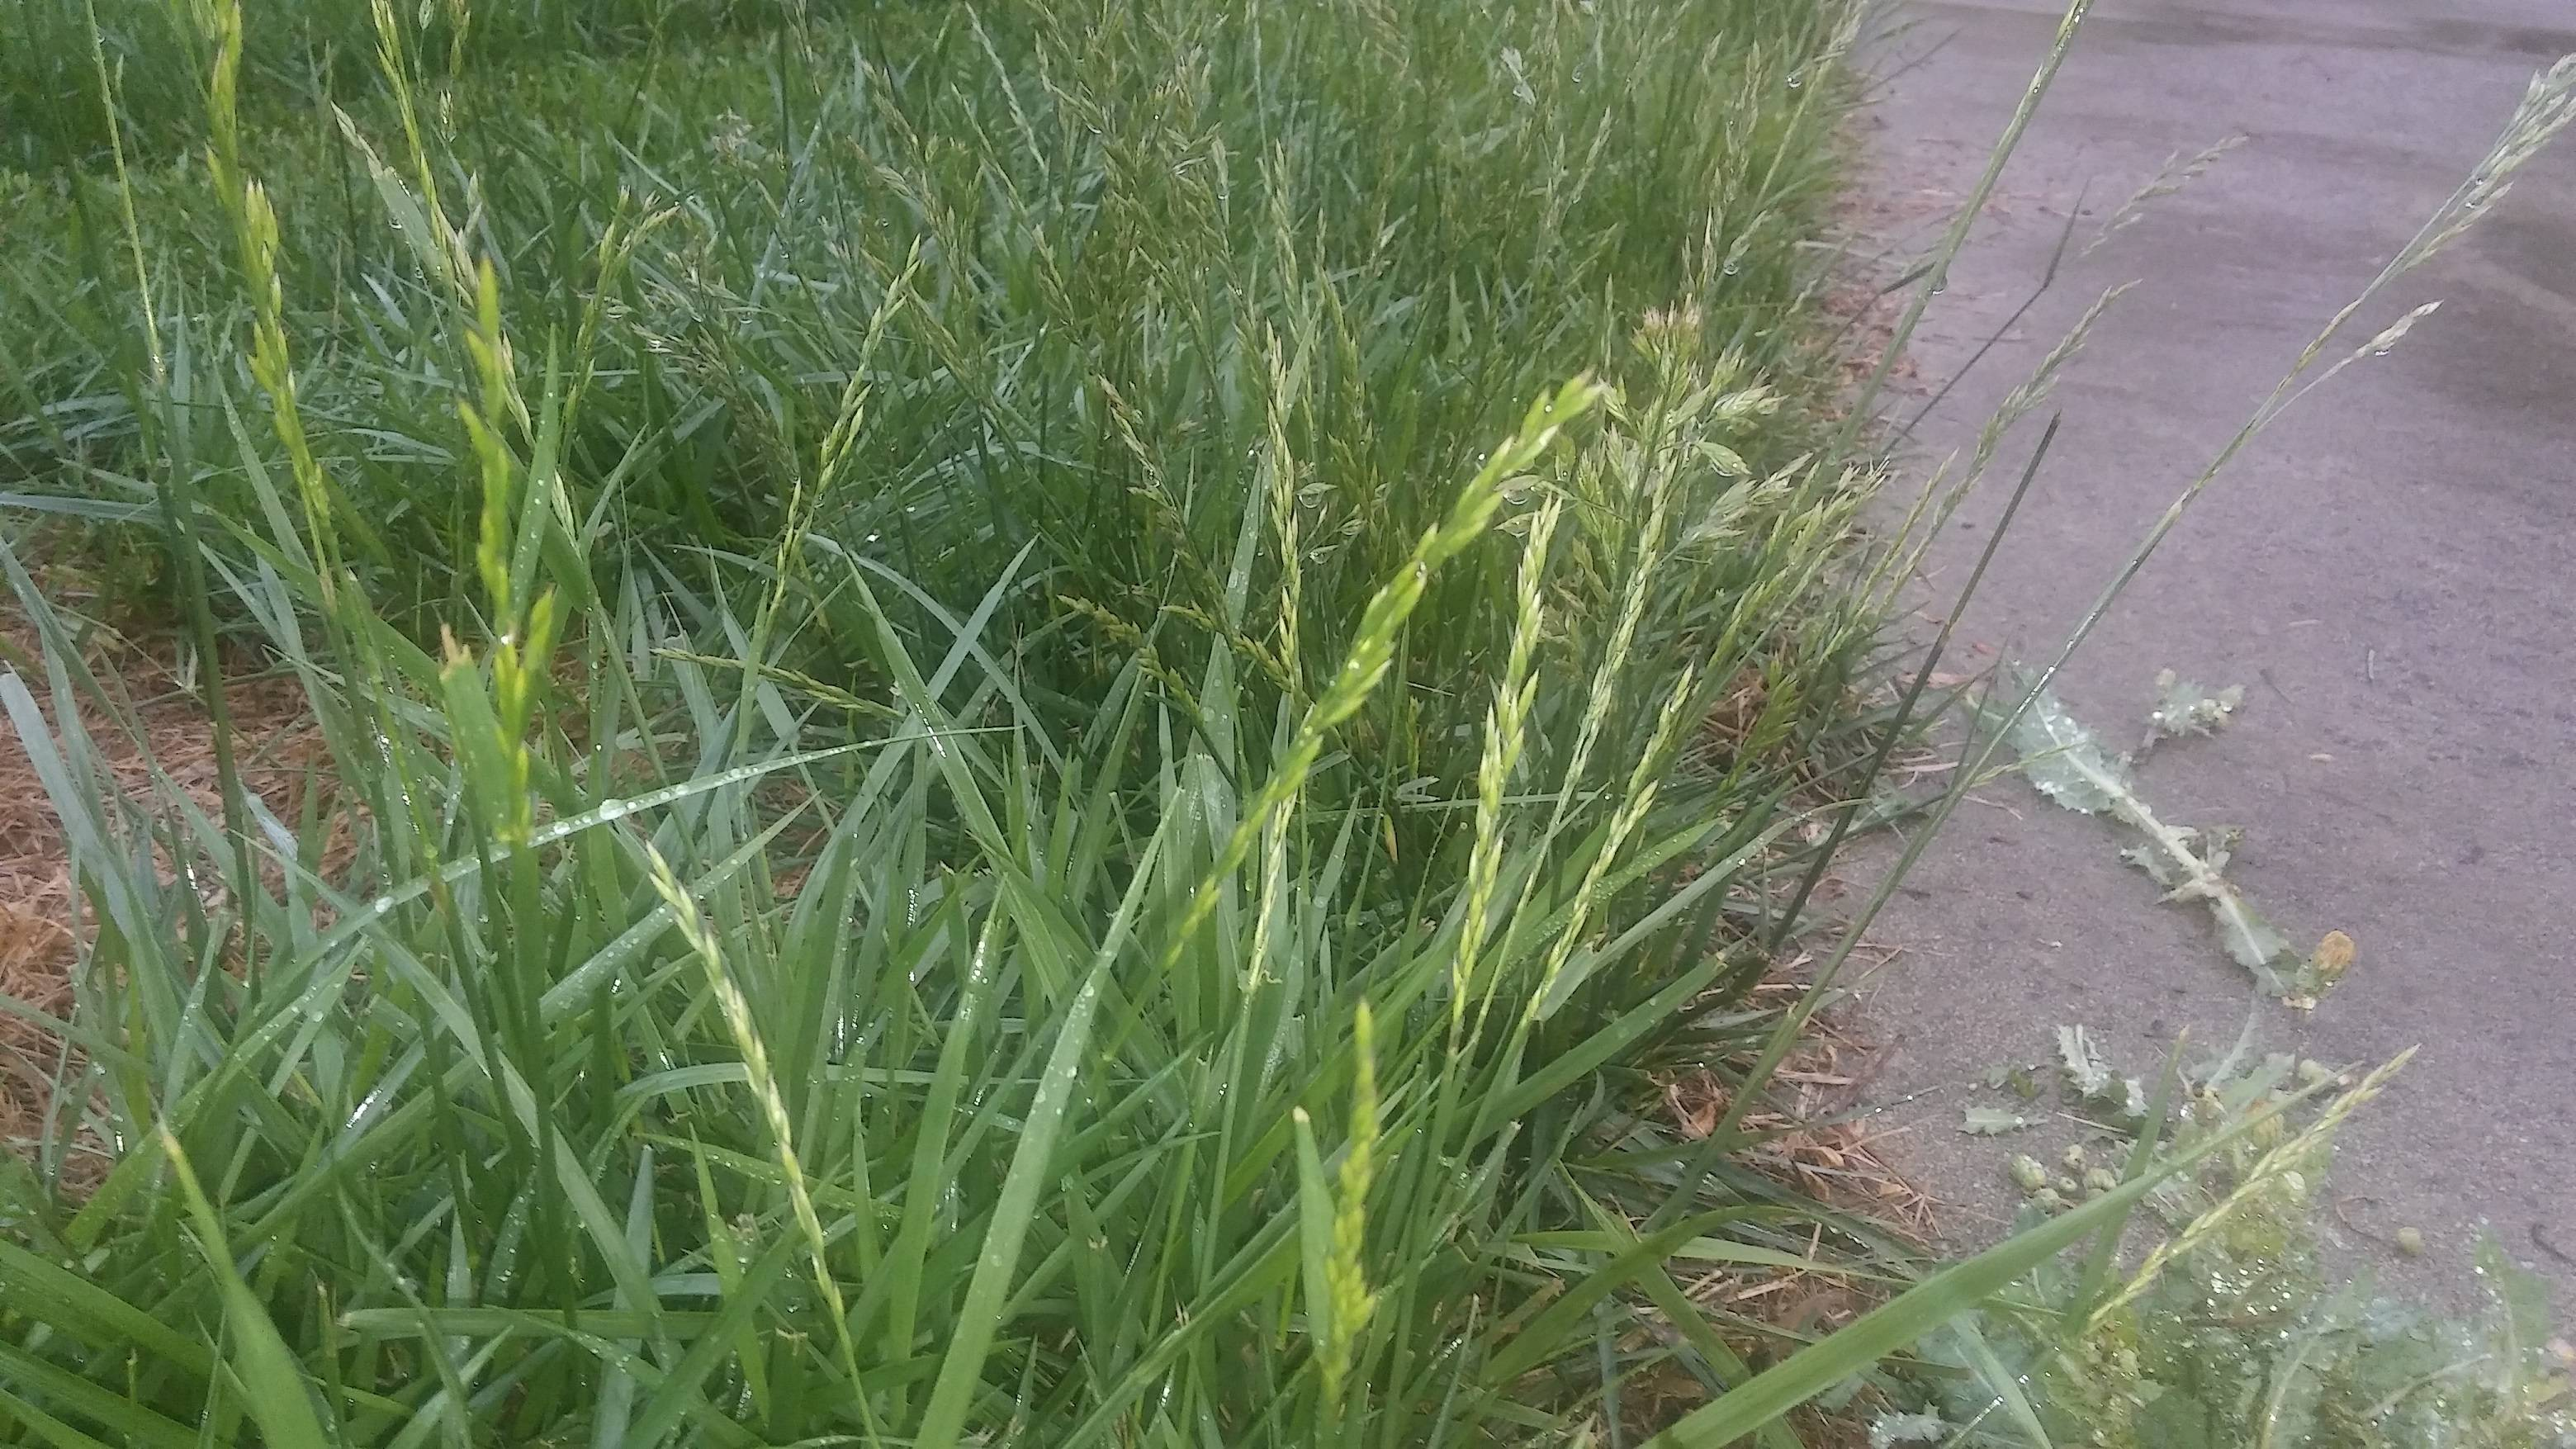grass: (11, 7, 1753, 1449)
